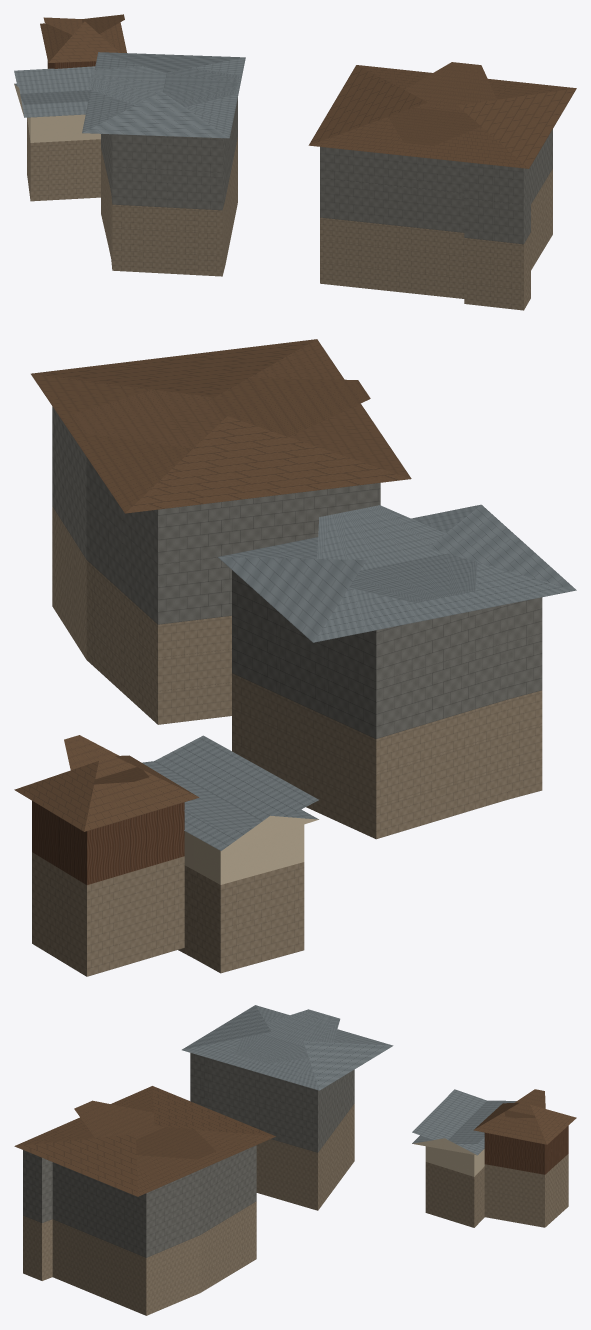
Rendered from bld_c35_-29_446.gltf.
3 views of the same model, one above another, from view 1: azimuth 30°, elevation 25°; view 2: azimuth 150°, elevation 25°; view 3: azimuth 270°, elevation 25° (orthographic). The views are drawn at different scales.
Visible parts, largest first — view 1: bld_c35_-29_446; view 2: bld_c35_-29_446; view 3: bld_c35_-29_446.
Boxes of the visible parts, x1=… form: bld_c35_-29_446: x1=14, y1=14, x2=576, y2=310; bld_c35_-29_446: x1=14, y1=339, x2=576, y2=976; bld_c35_-29_446: x1=14, y1=1005, x2=576, y2=1315.
Bounding box in the file's own units: 34.53 × 14 × 44.93.
7 materials, 7 textured.
